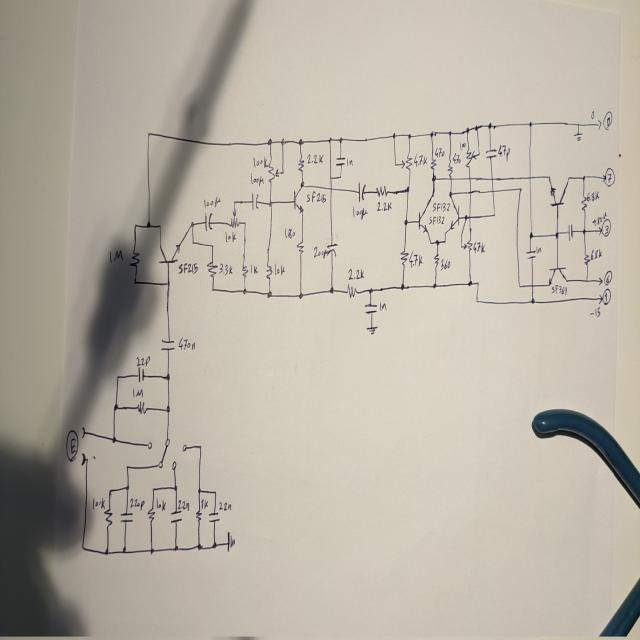capacitor: (160, 338, 176, 352), (120, 508, 133, 525), (169, 509, 183, 524), (208, 510, 221, 526), (357, 180, 366, 202), (326, 242, 337, 260), (204, 210, 213, 231), (364, 302, 378, 315), (136, 366, 146, 384), (251, 190, 259, 211), (526, 247, 538, 260), (485, 147, 497, 159), (335, 155, 346, 166), (567, 222, 573, 240)
crossover: (490, 186, 495, 194), (528, 173, 532, 182), (468, 188, 473, 195), (490, 175, 494, 183), (530, 282, 534, 289), (448, 175, 452, 181), (329, 186, 333, 191), (468, 174, 471, 180), (469, 214, 471, 219)
ground: (226, 528, 237, 553), (366, 325, 378, 336), (573, 130, 583, 142)
junction: (165, 278, 172, 287), (196, 541, 202, 551), (266, 289, 272, 298), (211, 540, 217, 549), (132, 221, 138, 230), (165, 404, 170, 414), (268, 198, 273, 208), (111, 434, 116, 444), (528, 231, 534, 239), (196, 486, 202, 494), (431, 174, 437, 182), (298, 137, 303, 146), (298, 290, 303, 299), (146, 220, 151, 229), (487, 121, 492, 130), (165, 372, 170, 381), (146, 129, 151, 138), (554, 230, 559, 239), (104, 547, 109, 556), (173, 483, 178, 492), (329, 285, 334, 293), (403, 218, 408, 226), (528, 120, 533, 128), (149, 546, 154, 554), (432, 281, 437, 289), (173, 543, 178, 551), (113, 403, 118, 411), (368, 286, 373, 294), (530, 296, 535, 304), (463, 214, 468, 222), (468, 278, 472, 287), (400, 282, 404, 291), (268, 137, 272, 146), (582, 227, 586, 236), (125, 484, 130, 491), (300, 181, 305, 188), (392, 131, 396, 139), (280, 137, 284, 145), (407, 132, 411, 140), (406, 185, 410, 193), (151, 485, 155, 493), (80, 543, 84, 551), (190, 220, 194, 228), (448, 190, 452, 198), (157, 221, 161, 229), (122, 546, 126, 554), (474, 124, 478, 132), (191, 238, 195, 246), (338, 136, 343, 142), (435, 238, 440, 244), (429, 130, 434, 136), (242, 287, 246, 294), (582, 173, 586, 180), (474, 297, 478, 304), (198, 443, 202, 450), (492, 211, 496, 218), (448, 129, 452, 136), (116, 373, 120, 380), (518, 185, 522, 192), (466, 126, 470, 133), (329, 173, 333, 180), (584, 276, 588, 283), (328, 136, 332, 142), (133, 278, 137, 284), (126, 464, 130, 470), (518, 282, 522, 288), (210, 286, 214, 292), (213, 489, 217, 495), (232, 198, 236, 204), (210, 242, 214, 248), (393, 161, 397, 167), (460, 242, 463, 250), (576, 121, 580, 127), (443, 238, 447, 244), (339, 172, 342, 180), (476, 280, 479, 286), (567, 174, 570, 180), (460, 230, 463, 236), (281, 170, 284, 176), (108, 488, 111, 493), (244, 219, 246, 225), (478, 150, 480, 156)
resistor: (228, 207, 241, 228), (266, 160, 278, 182), (464, 149, 477, 169), (345, 282, 358, 299), (400, 154, 412, 172), (129, 250, 140, 268), (104, 507, 113, 528), (375, 183, 388, 197), (136, 402, 150, 415), (399, 248, 408, 268), (207, 260, 218, 276), (583, 249, 590, 270), (147, 506, 156, 522), (463, 237, 472, 253), (446, 159, 454, 175), (296, 239, 304, 255), (265, 261, 272, 279), (297, 155, 304, 173), (580, 194, 587, 212), (432, 255, 441, 269), (241, 260, 248, 277), (195, 508, 202, 525), (431, 157, 436, 170)
switch: (146, 435, 190, 473)
terminal: (80, 451, 89, 466), (81, 424, 86, 439), (597, 118, 602, 130), (597, 276, 603, 285), (598, 292, 602, 304), (598, 225, 602, 235), (602, 173, 606, 182)
text: (65, 428, 79, 463), (305, 190, 327, 204), (177, 261, 199, 275), (177, 336, 196, 352), (430, 200, 451, 212), (352, 204, 367, 220), (408, 251, 422, 268), (306, 152, 324, 165), (497, 143, 510, 161), (108, 248, 123, 263), (413, 152, 428, 167), (252, 155, 268, 169), (203, 196, 220, 209), (428, 214, 446, 226), (92, 495, 106, 510), (250, 173, 265, 187), (588, 247, 602, 262), (604, 165, 614, 186), (376, 199, 392, 212), (550, 283, 567, 295), (130, 496, 144, 510), (136, 354, 150, 368), (592, 212, 606, 226), (348, 268, 364, 280), (218, 262, 232, 275), (224, 228, 237, 242), (313, 245, 325, 260), (473, 239, 485, 254), (603, 110, 612, 130), (438, 257, 451, 270), (586, 190, 599, 202), (132, 386, 145, 398), (218, 500, 232, 511), (602, 218, 610, 236), (284, 227, 295, 240), (274, 262, 284, 276), (178, 498, 189, 510), (156, 497, 166, 510), (603, 288, 611, 304), (589, 306, 601, 316), (248, 262, 258, 274), (452, 150, 460, 163), (434, 146, 444, 156), (605, 270, 612, 284), (379, 300, 387, 312), (346, 156, 354, 168), (535, 244, 542, 255), (202, 496, 208, 508), (459, 141, 466, 150), (590, 110, 595, 118)
transistor: (158, 238, 184, 264), (548, 174, 568, 207), (418, 202, 431, 236), (292, 183, 306, 214), (548, 266, 568, 284), (448, 207, 460, 230)
